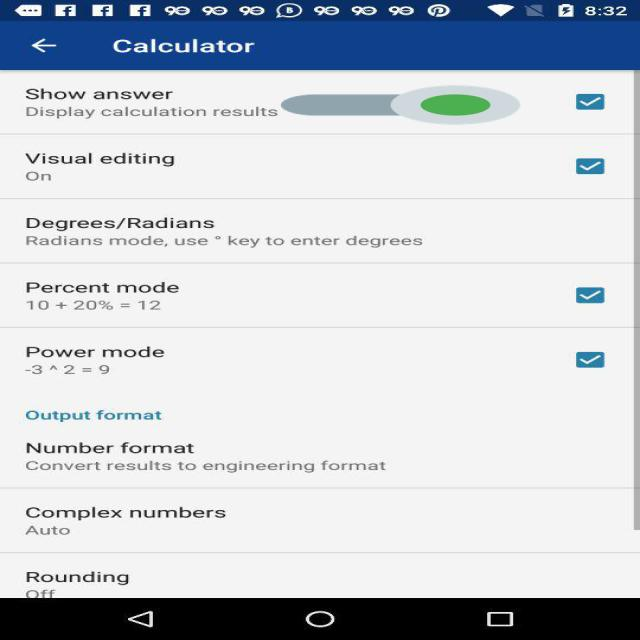social proof: (281, 69, 520, 141)
